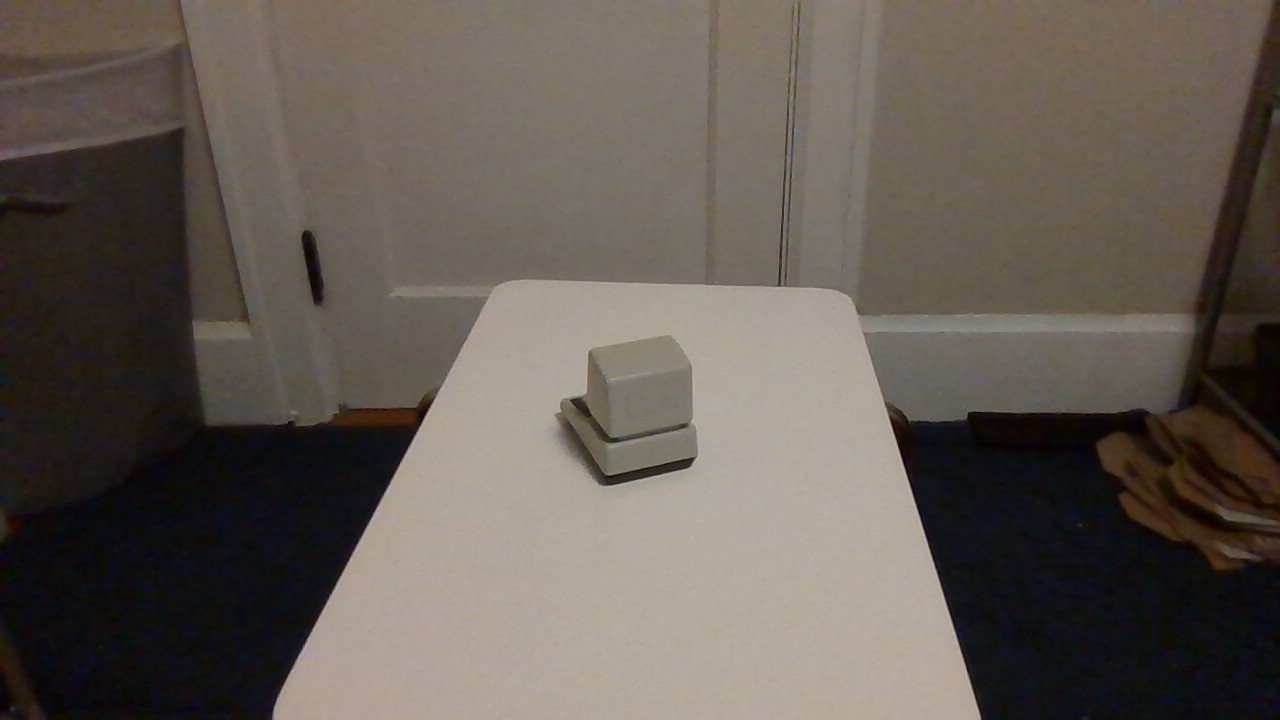Toy: (532, 326, 727, 512)
